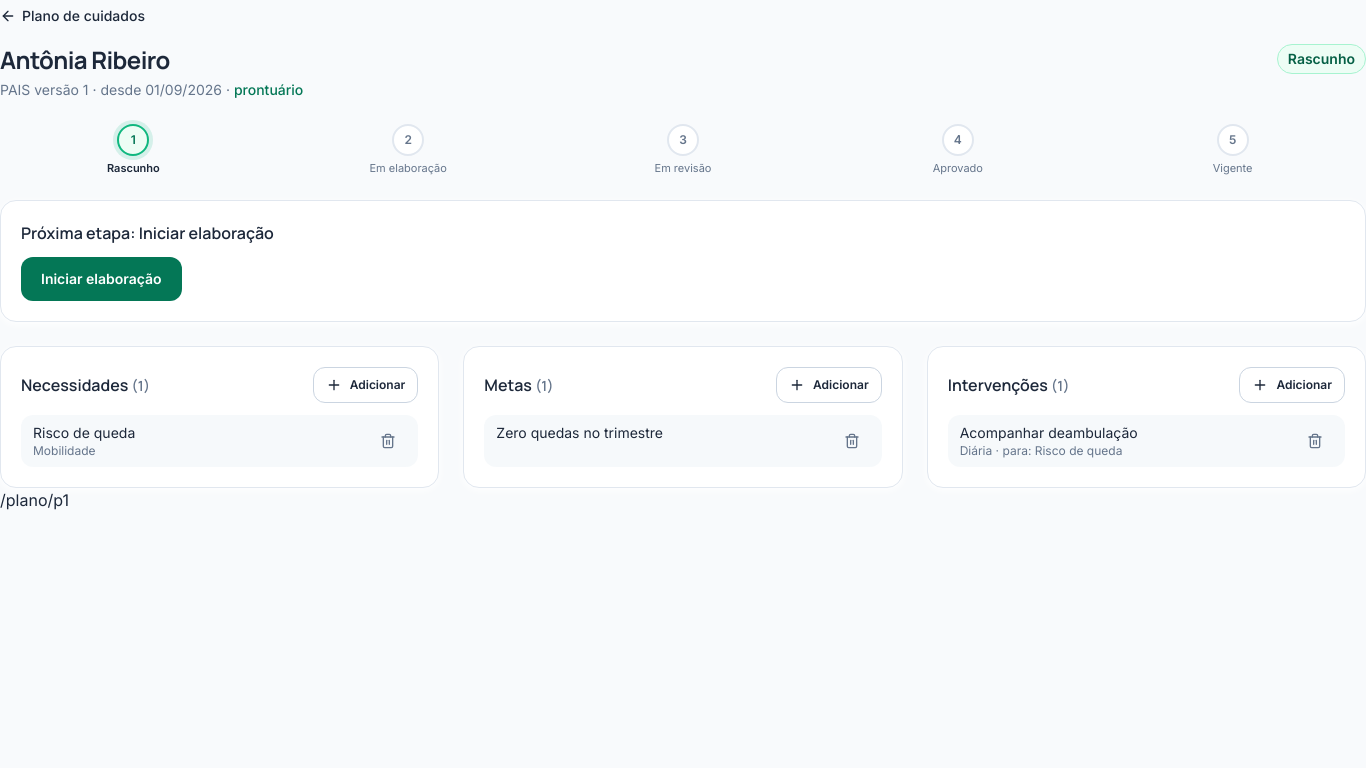
PAIS — ciclo no detalhe › rascunho: adiciona e remove itens e inicia a elaboração
The image size is (1366, 768).
Expected: the text "Mobilidade" is shown, [33, 443, 96, 458]
Expected: the text "Diária · para: Risco de queda" is shown, [960, 443, 1122, 458]
Click the button "Adicionar" in the row of "Necessidades".
click(366, 385)  # box [313, 367, 418, 403]
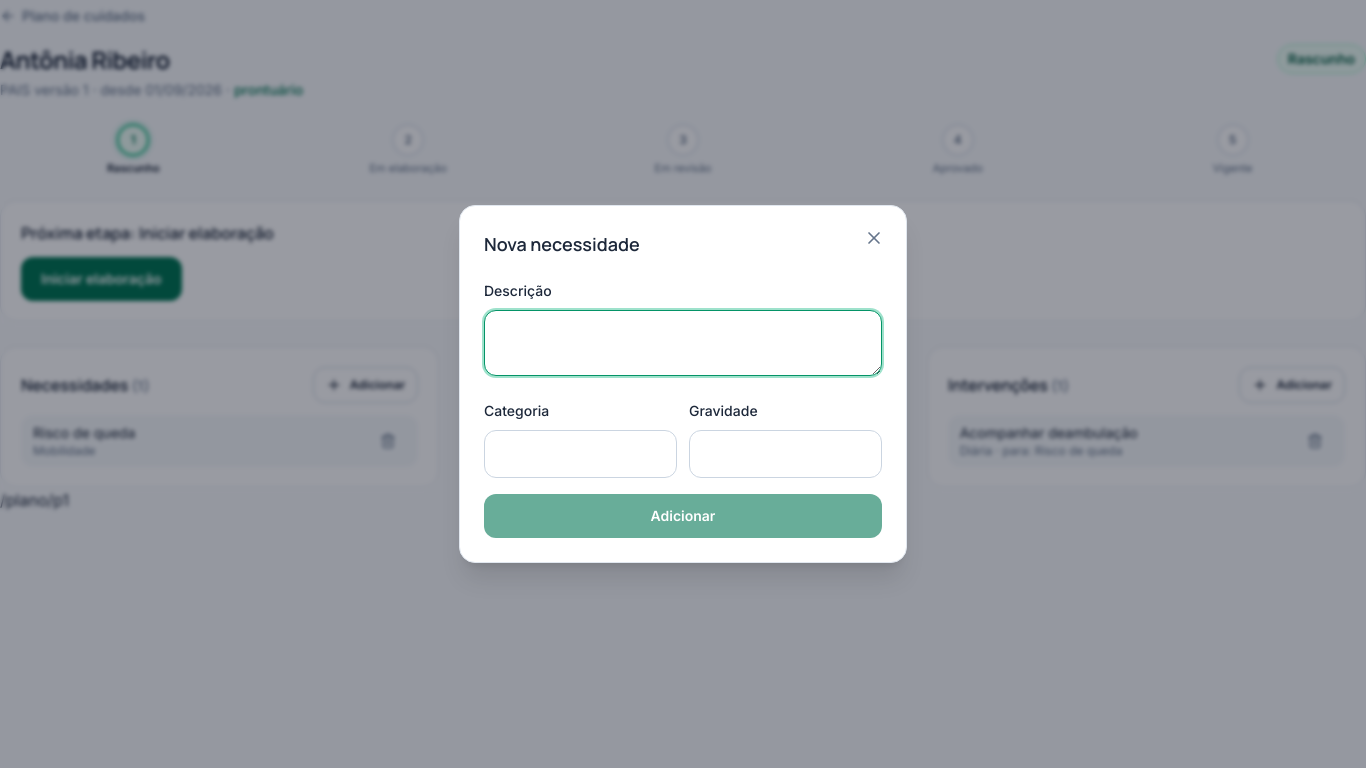
Type "  Desidratação  " into the text box labelled "Descrição".
click(683, 343); type("  Desidratação  ")  # box [484, 310, 882, 376]
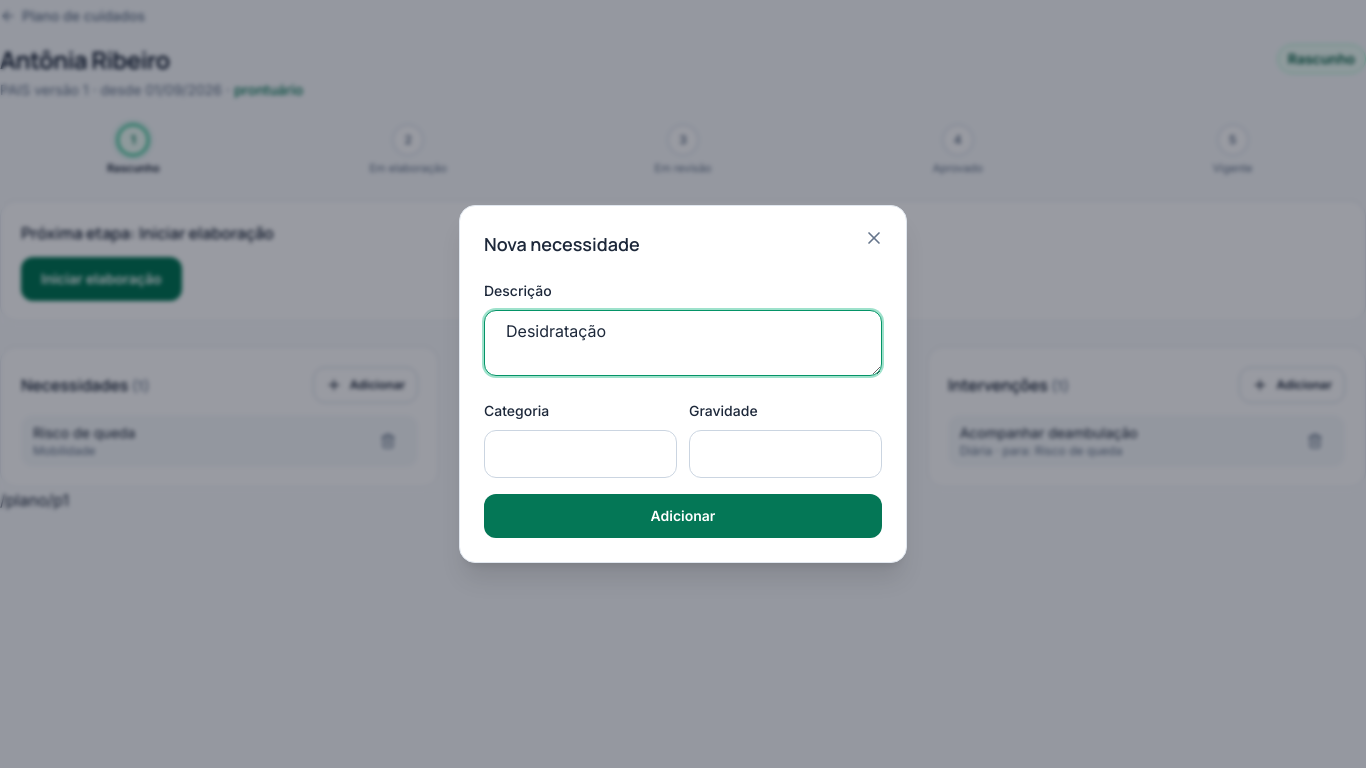
Type "Nutrição" into the field labelled "Categoria".
click(580, 454); type("Nutrição")  # box [484, 430, 677, 478]
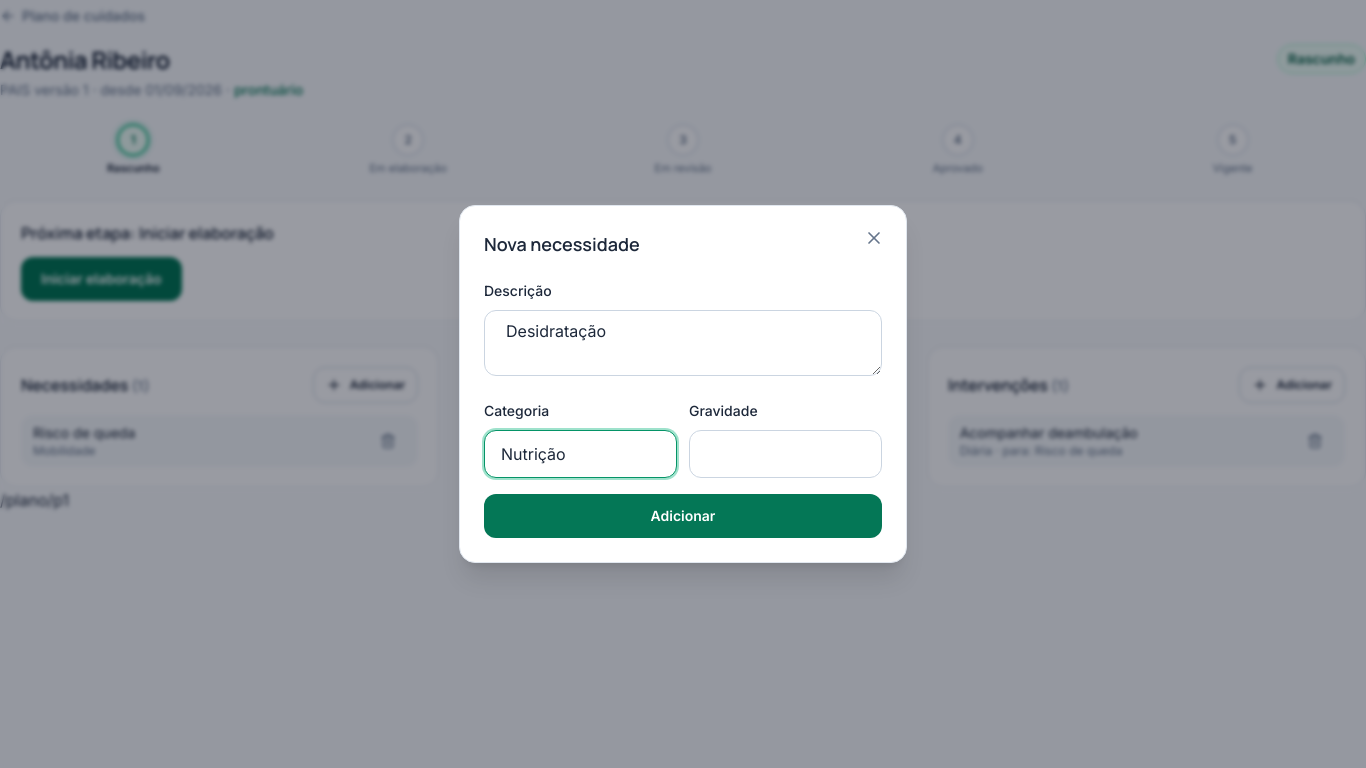
Click the button "Adicionar".
click(683, 516)  # box [484, 494, 882, 538]
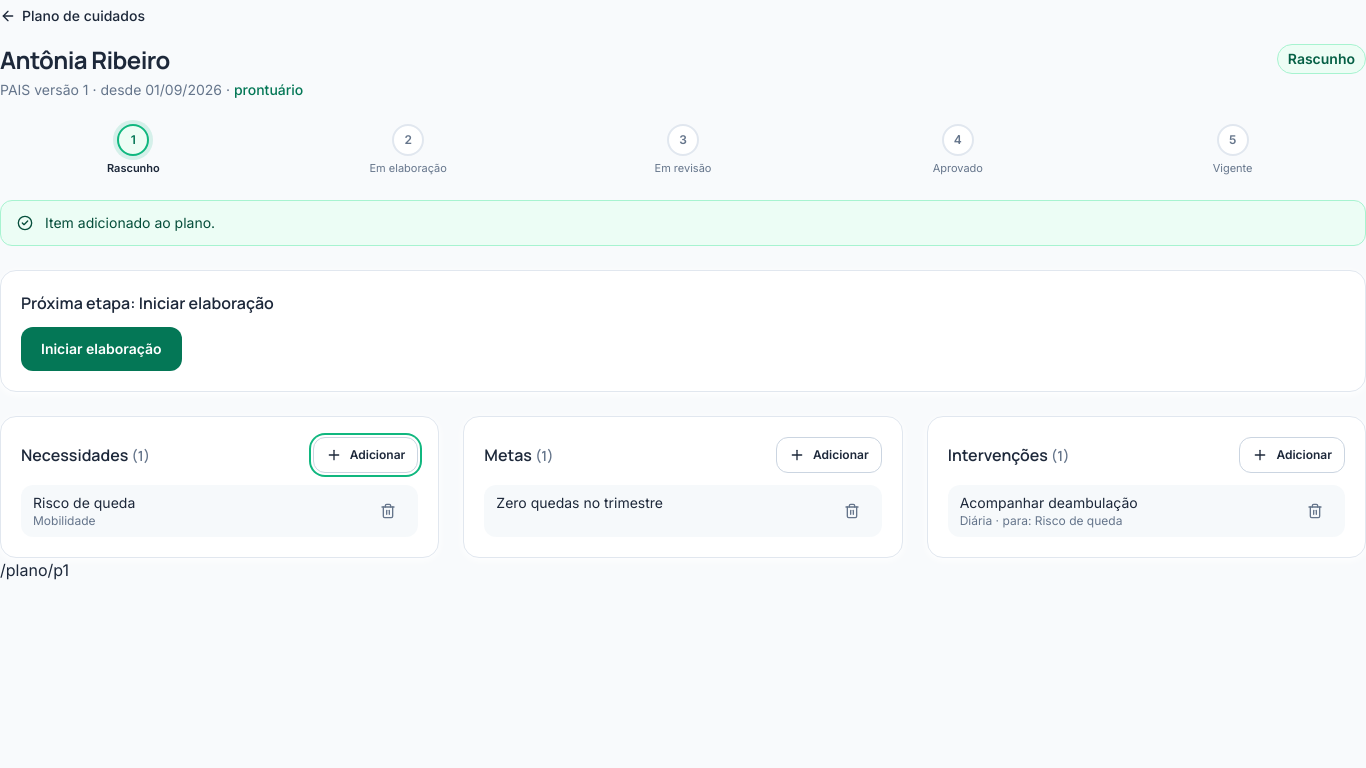
Click the button named "Remover meta".
click(852, 511)  # box [834, 493, 870, 529]
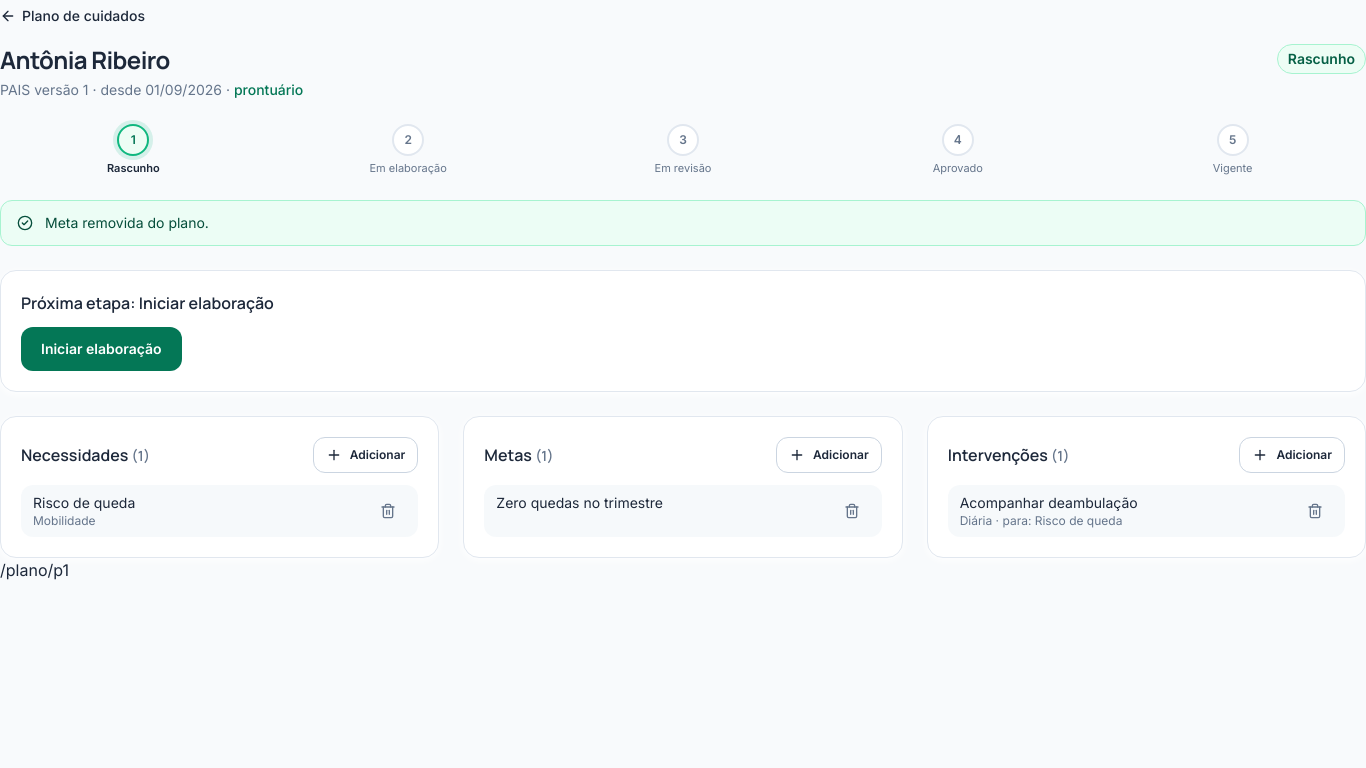
Click the button "Iniciar elaboração".
click(101, 349)  # box [21, 327, 182, 371]
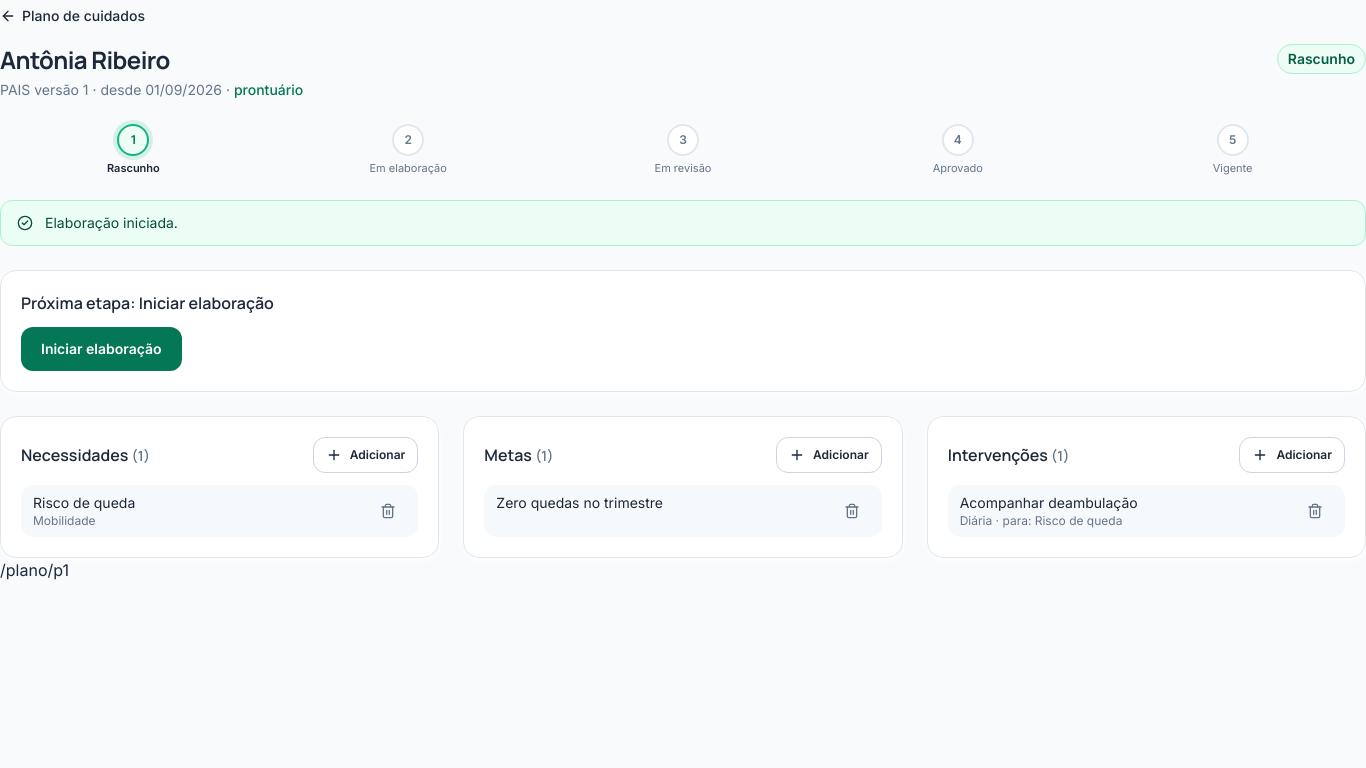
Result: the text "Elaboração iniciada." is shown at [45, 213, 178, 233]
